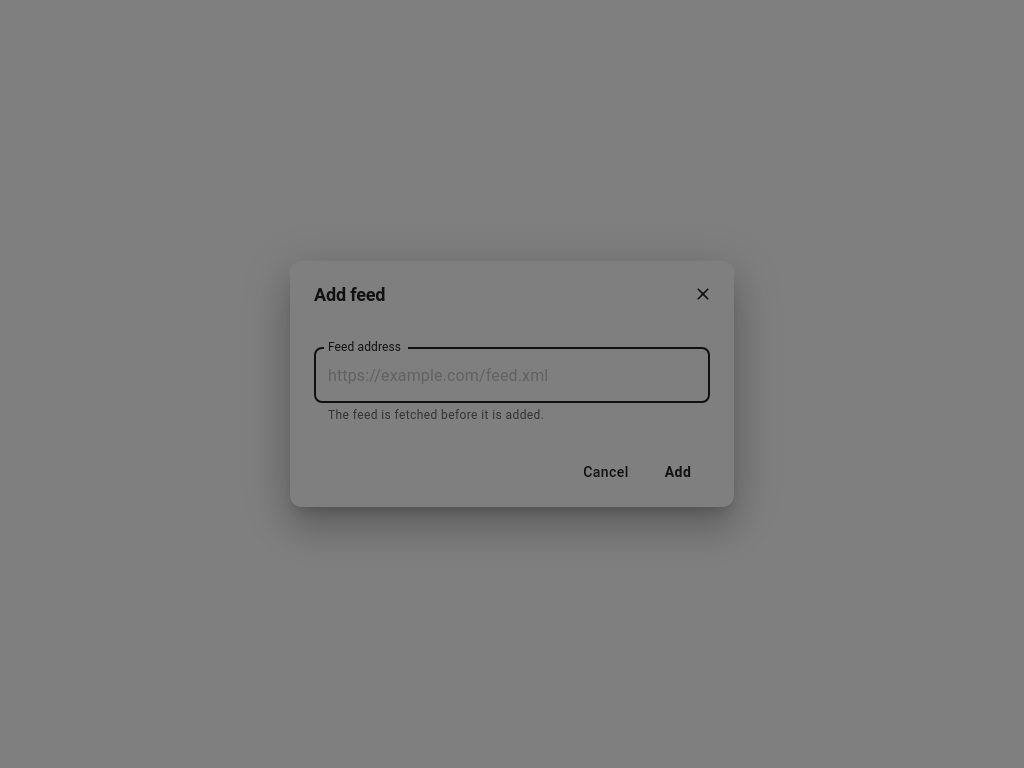
Test: QuickAddDialog › shows the server's reason when the address is refused
The image size is (1024, 768).
Type "https://example.com/" into the field labelled "Feed address" at coordinates (512, 375), box [314,347,710,403]
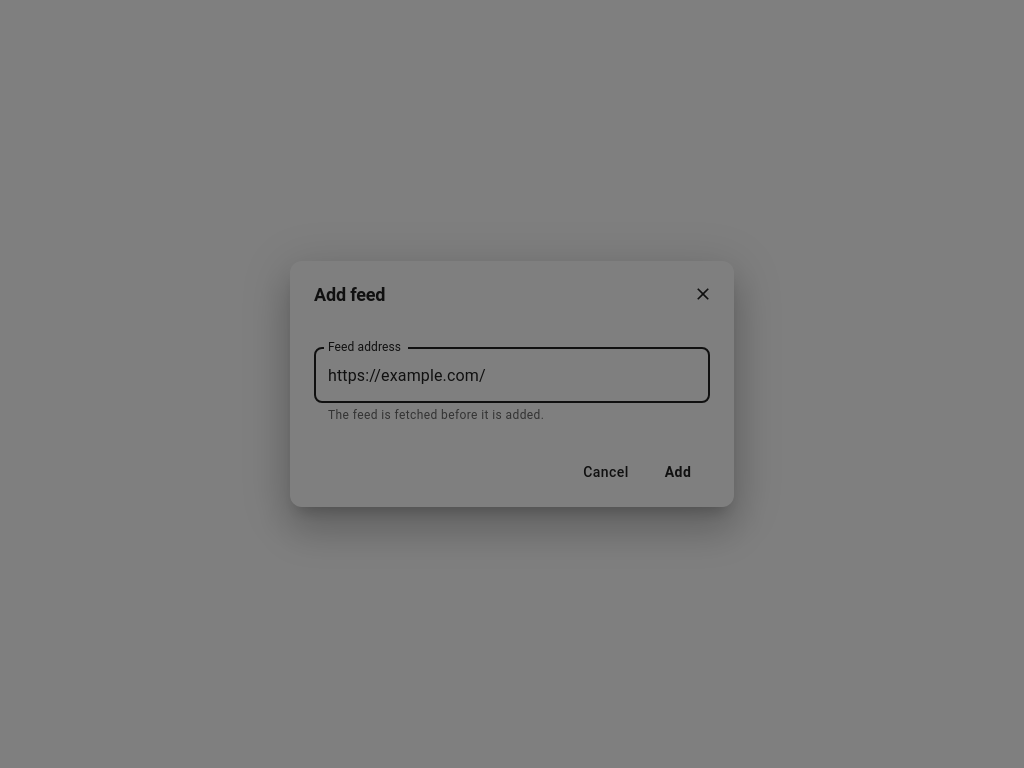
Click the button "Add" at coordinates (678, 472), box [646,454,710,491]
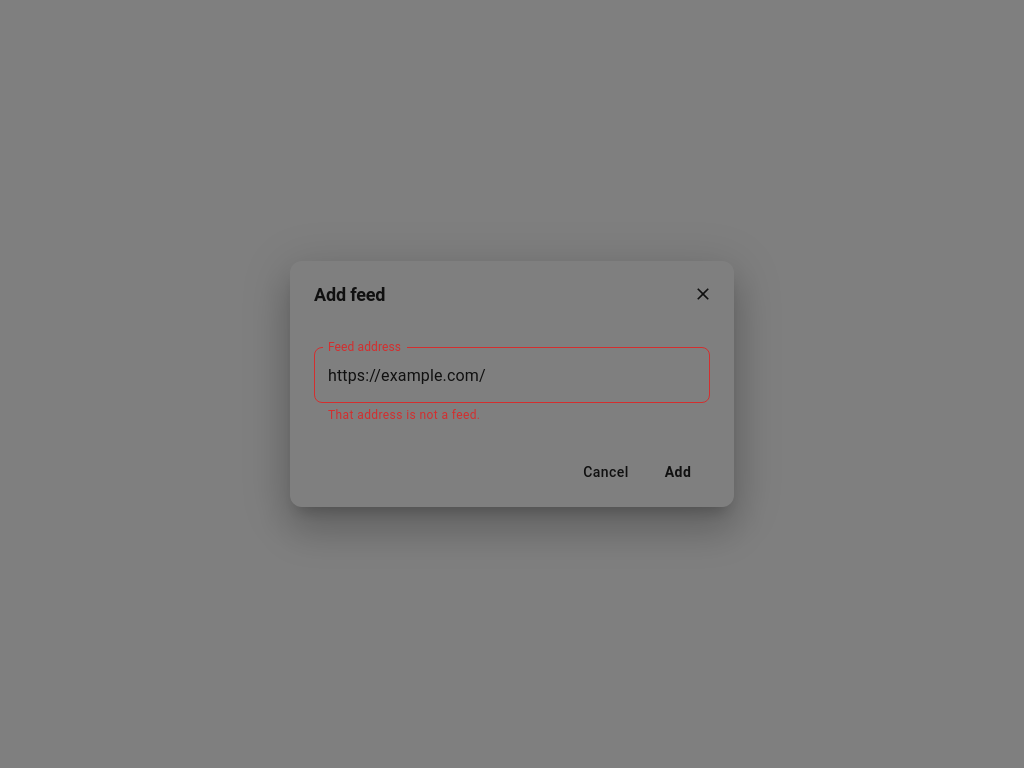
Now the text "That address is not a feed." is shown, box [328,408,480,422]
